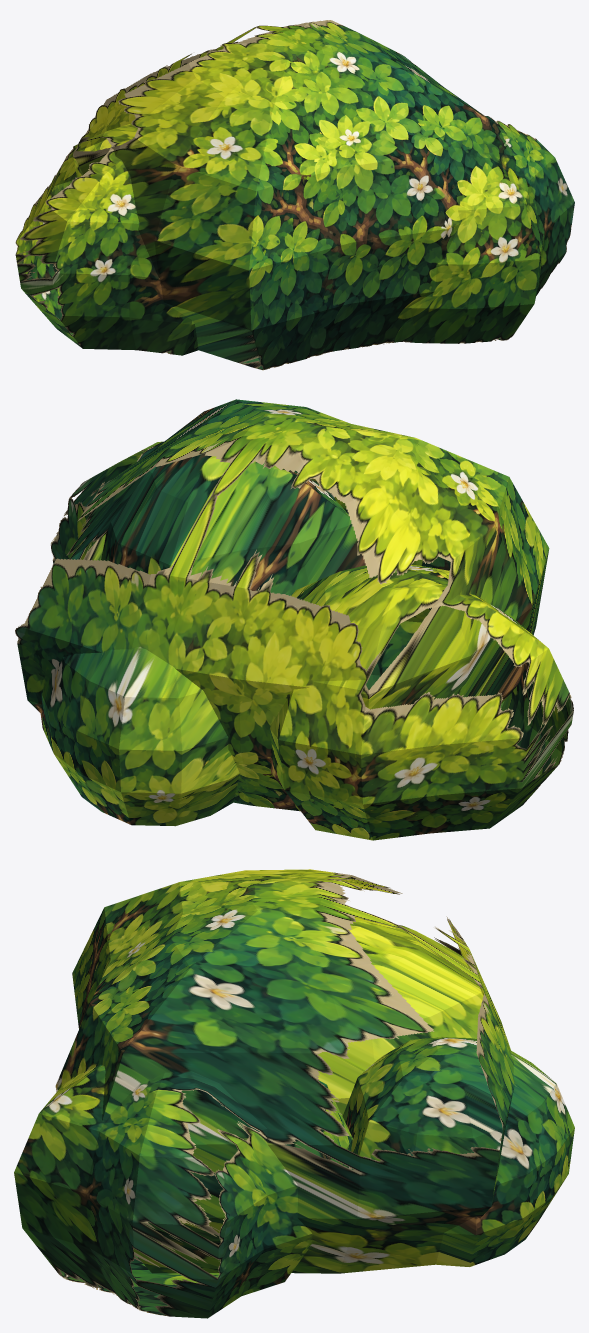
File: bush_b.glb
3 renders of one model, top to bottom at view 1: azimuth 30°, elevation 25°; view 2: azimuth 150°, elevation 25°; view 3: azimuth 270°, elevation 25°, orthographic. The views are drawn at different scales.
Parts seen in each view (by area): view 1: bush_b_game; view 2: bush_b_game; view 3: bush_b_game.
Part boxes in pixels (x1,y1,x2,y2): bush_b_game: (15,20,574,370); bush_b_game: (15,399,573,840); bush_b_game: (14,869,574,1318).
Bounding box in the file's own units: 2.74 × 1.45 × 2.36.
Materials: 1 (1 with a texture image).
